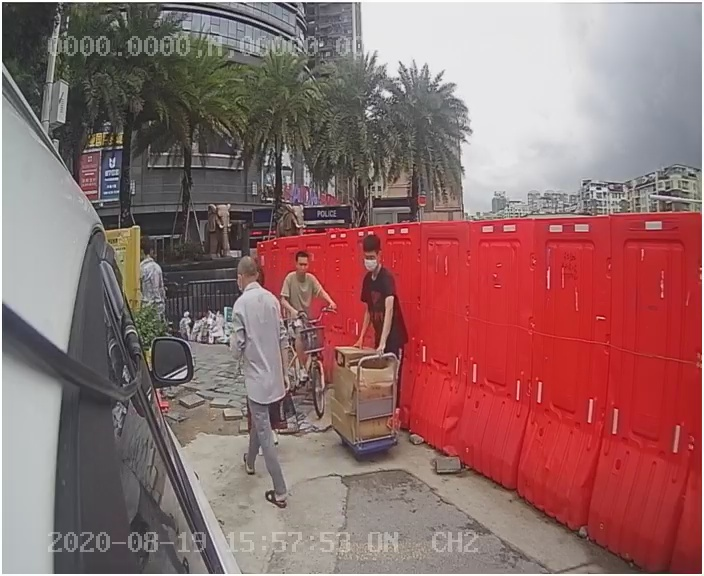person: (221, 255, 298, 513)
